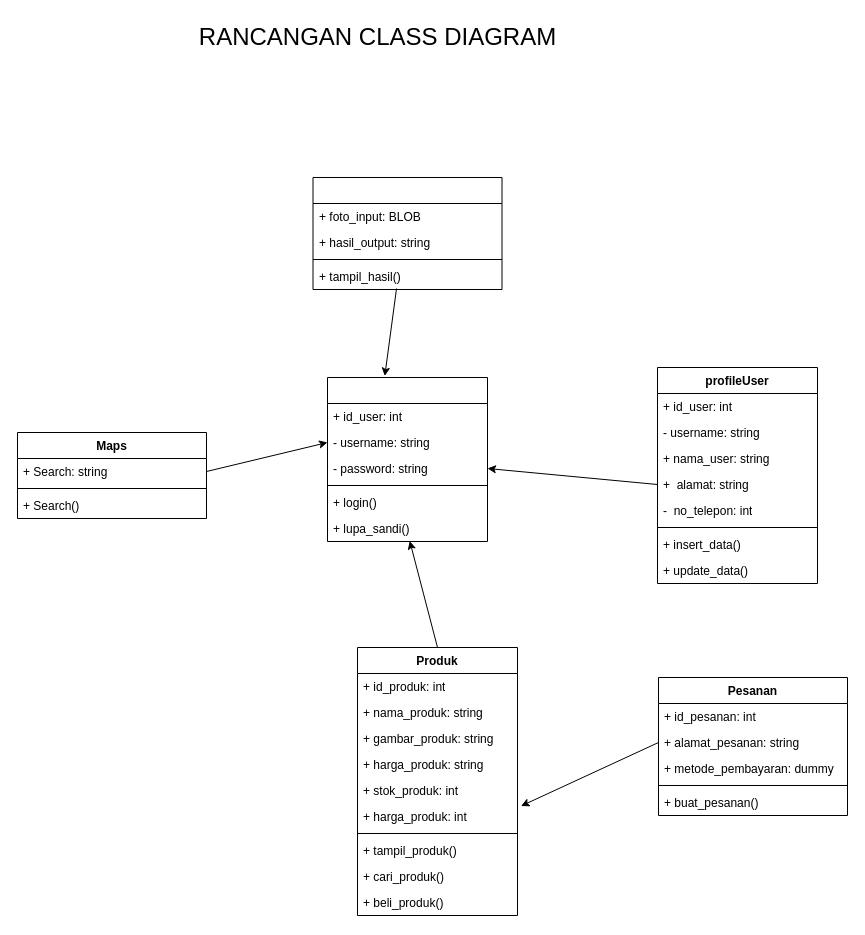
This 865x935 diagram has some shape labels left out. The box of each missing label's shape, as (x1, y1, x2, y2) in pixels:
akunUser: (326, 376, 488, 542)
Scan: (312, 176, 502, 290)
